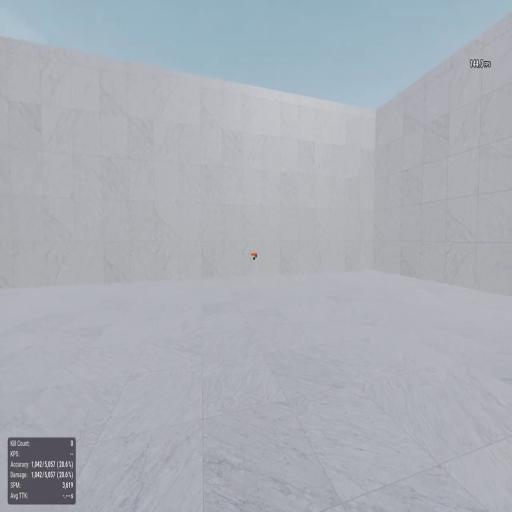Crosshair: (255, 254, 257, 258)
Target: (253, 256, 256, 261)
